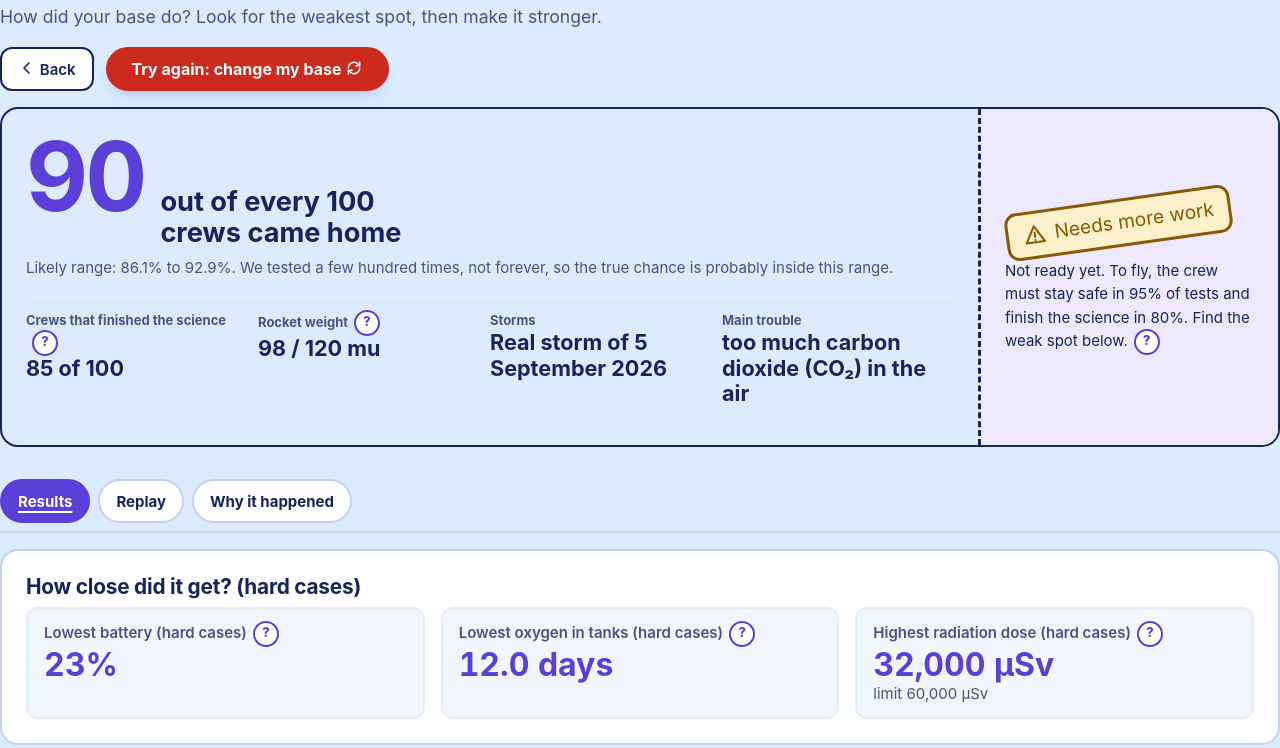
Scenario: ReviewScreen (L7 AC2-AC7) › AC5: the cause chain comes from the log and a hint is shown
Click the tab "Why it happened".
click(272, 501)  # box [192,479,352,523]
(page scrolled)
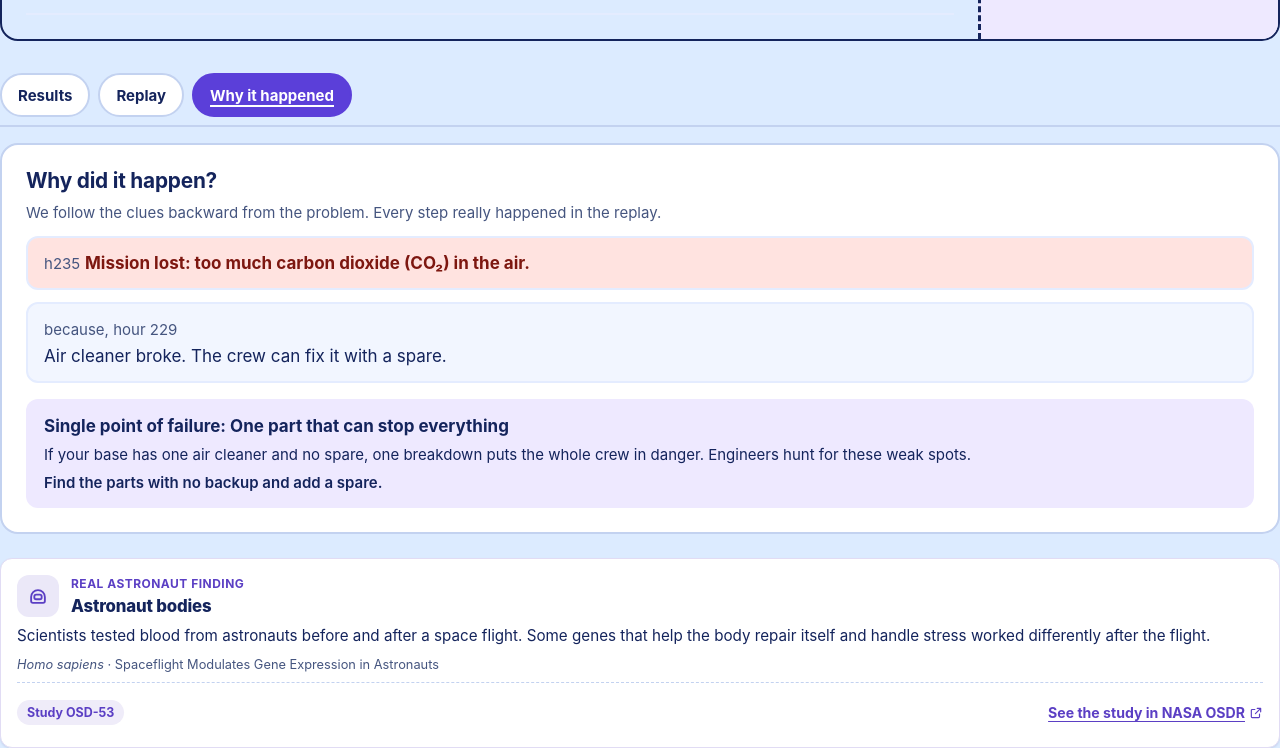
Result: the text "Single point of failure: One part that can stop everything" is shown at [44,416,509,436]
